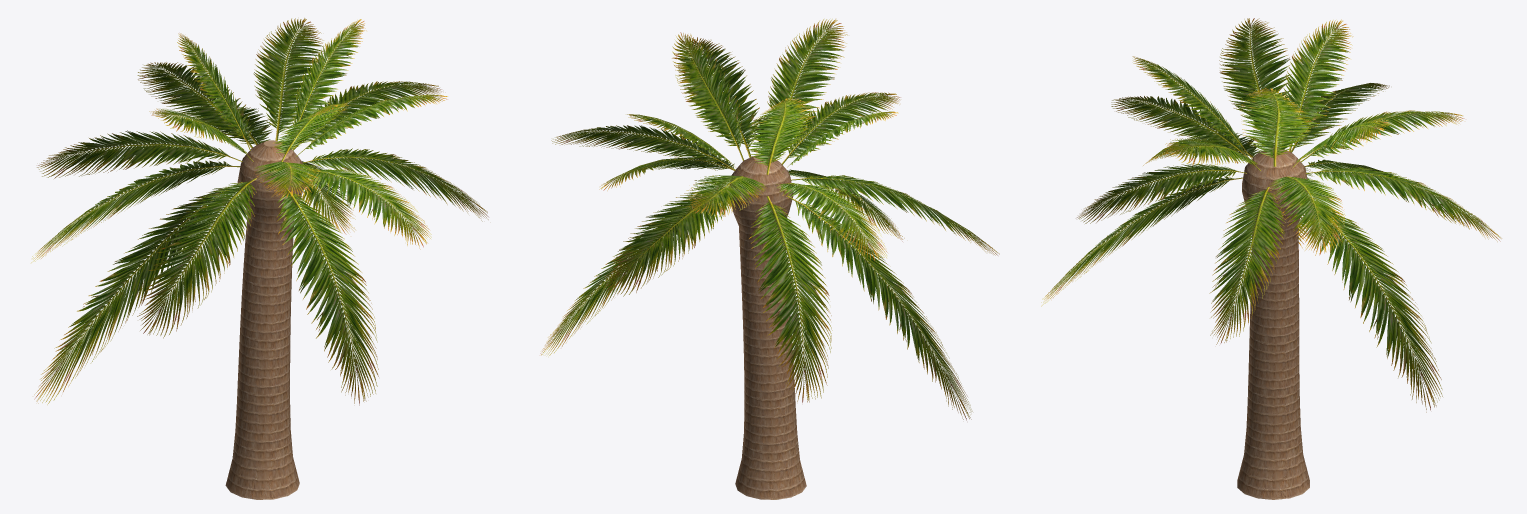
File: palm_short.glb
3 renders of one model, left to right at view 1: azimuth 30°, elevation 25°; view 2: azimuth 150°, elevation 25°; view 3: azimuth 270°, elevation 25°, orthographic. The views are drawn at different scales.
Parts seen in each view (by area): view 1: palm_short; view 2: palm_short; view 3: palm_short.
Boxes of the visible parts, <box> form: palm_short: <box>31,18,488,499</box>; palm_short: <box>540,19,999,499</box>; palm_short: <box>1041,18,1501,499</box>.
Bounding box in the file's own units: 7.6 × 7.46 × 7.32.
Materials: 2 (2 with a texture image).
